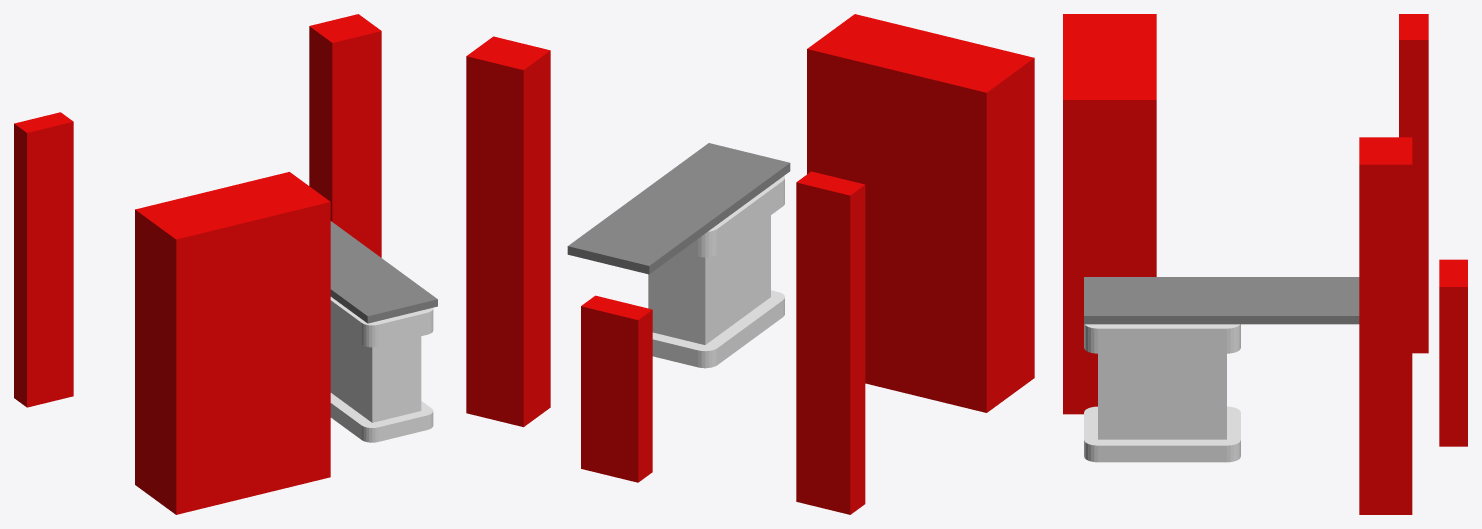
File: boxes.glb
3 renders of one model, left to right at view 1: azimuth 30°, elevation 25°; view 2: azimuth 150°, elevation 25°; view 3: azimuth 270°, elevation 25°, orthographic. The views are drawn at different scales.
Parts seen in each view (by area): view 1: object 3, object 6, object 4, Bed2.001, Bed1.001; view 2: object 3, object 4, object 6, Bed2.001, Bed1.001, object 5; view 3: object 3, object 4, Bed2.001, Bed1.001, object 6, object 5.
Part boxes in pixels (x1,y1,x2,y2): object 3: (135,172,330,514); object 6: (14,112,73,407); object 4: (309,14,381,257); Bed2.001: (330,297,433,442); Bed1.001: (330,221,437,323); object 3: (807,14,1034,412); object 4: (466,36,550,427); object 6: (796,171,865,514); Bed2.001: (648,176,784,368); Bed1.001: (567,143,790,274); object 5: (581,295,652,482); object 3: (1063,14,1156,414); object 4: (1359,137,1412,514); Bed2.001: (1084,324,1240,462); Bed1.001: (1084,277,1359,324); object 6: (1399,14,1428,353); object 5: (1439,259,1467,446).
Size of the model in its own units: 2.41 by 2.09 by 2.19.
